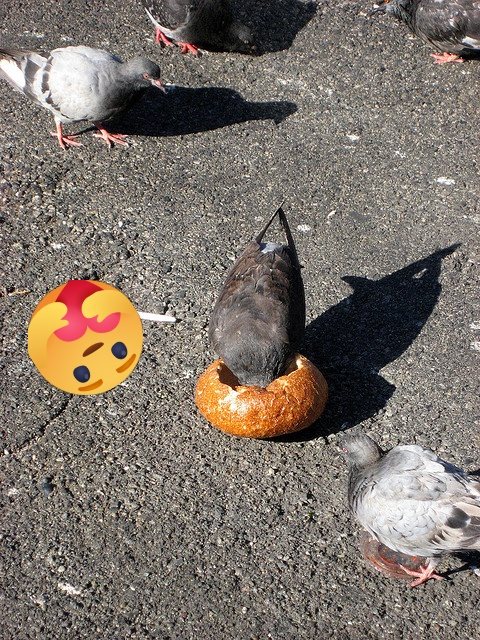care: (28, 280, 143, 395)
